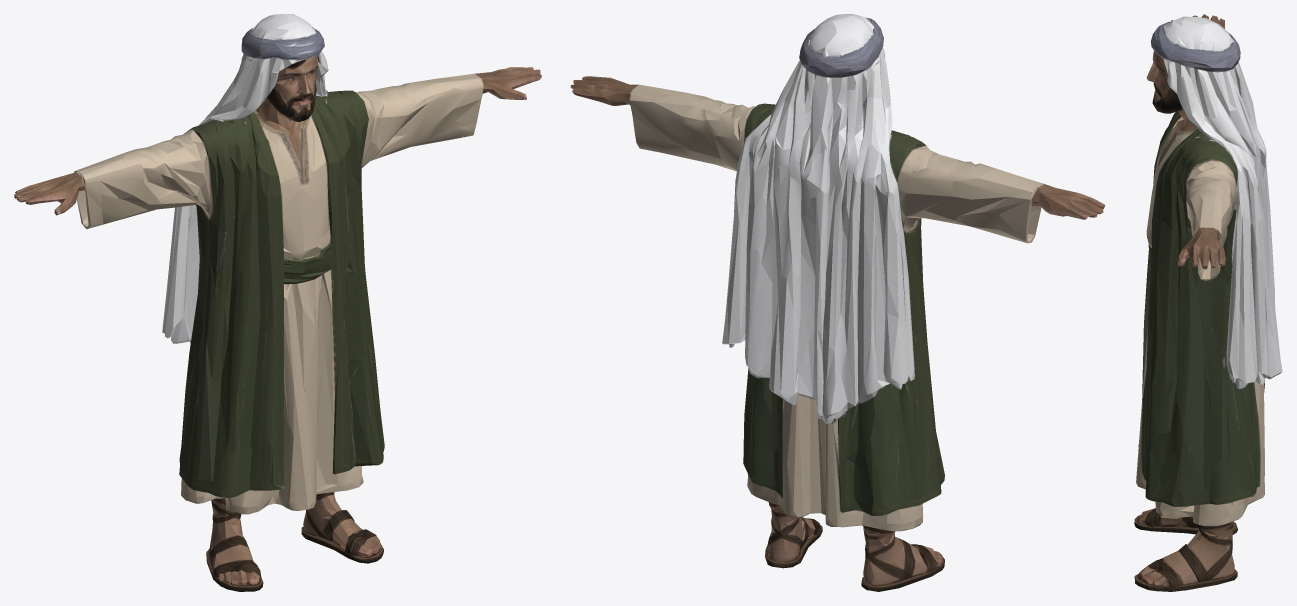
File: laman-remeshed.glb
The picture shows the model from 3 angles, left to right: view 1: azimuth 30°, elevation 25°; view 2: azimuth 150°, elevation 25°; view 3: azimuth 270°, elevation 25°; orthographic projection. The views are drawn at different scales.
Parts seen in each view (by area): view 1: output_unwrapped; view 2: output_unwrapped; view 3: output_unwrapped.
Boxes of the visible parts, left/top/right/bottom form: output_unwrapped: left=14, top=14, right=541, bottom=591; output_unwrapped: left=570, top=14, right=1105, bottom=591; output_unwrapped: left=1134, top=14, right=1282, bottom=591.
Bounding box in the file's own units: 1.9 × 1.87 × 0.4706.
Materials: 1 (1 with a texture image).
